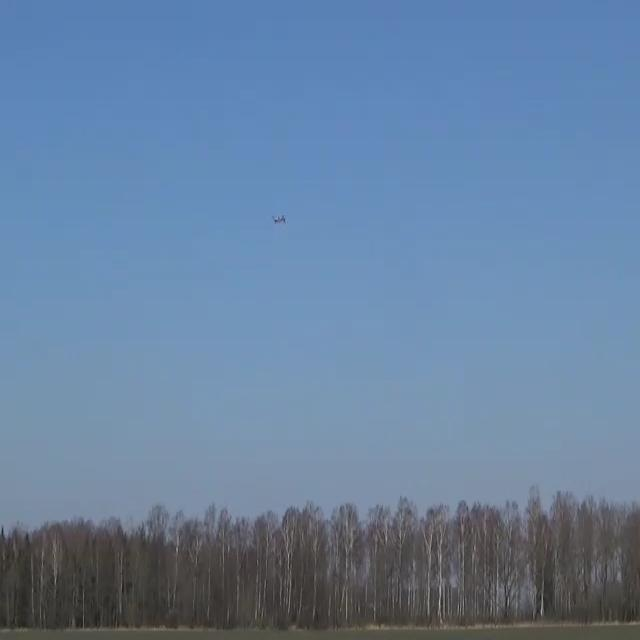Drone: (256, 199, 296, 231)
